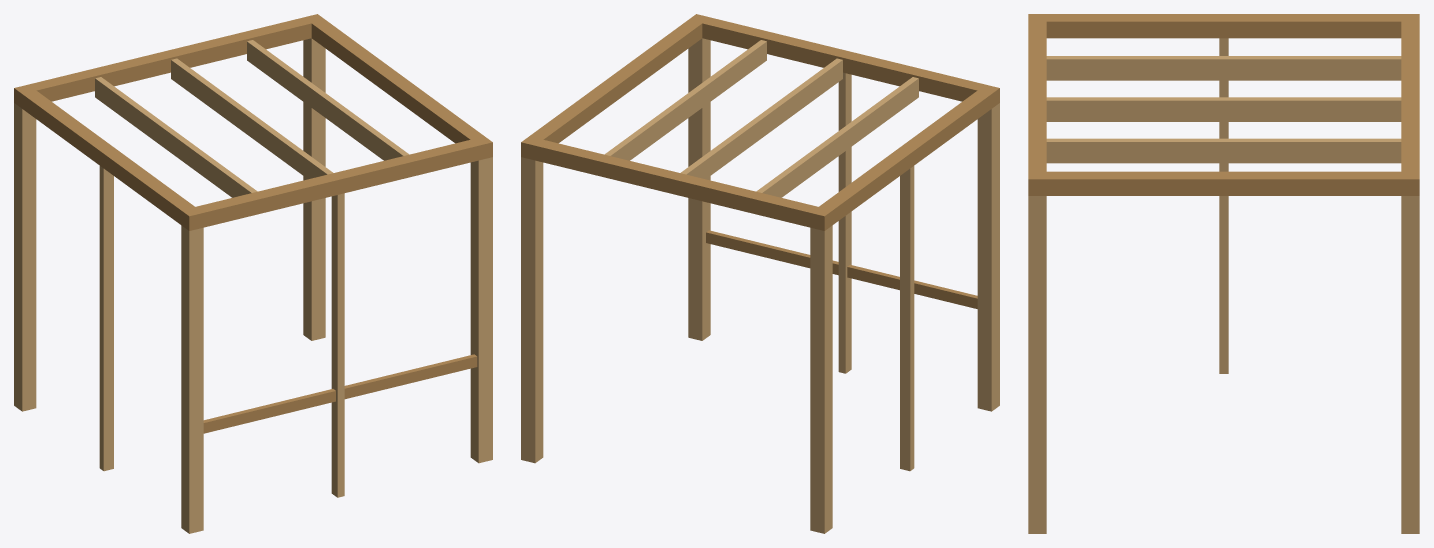
Rendered from con_frame_wood.glb.
3 views of the same model, side by side, from view 1: azimuth 30°, elevation 25°; view 2: azimuth 150°, elevation 25°; view 3: azimuth 270°, elevation 25° (orthographic). The views are drawn at different scales.
Visible parts, largest first — view 1: con_frame_wood; view 2: con_frame_wood; view 3: con_frame_wood.
Boxes of the visible parts, box(x1,y1,x2,y2) form: con_frame_wood: box(14, 14, 492, 533); con_frame_wood: box(521, 14, 999, 533); con_frame_wood: box(1028, 14, 1419, 533).
Bounding box in the file's own units: 3 × 3 × 3.
